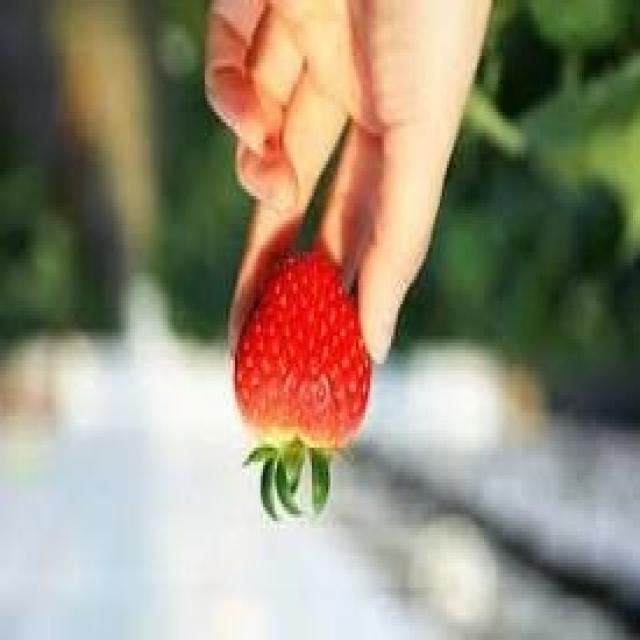mature: (234, 245, 374, 451)
